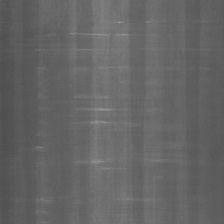waist_folding: (24, 1, 160, 217)
